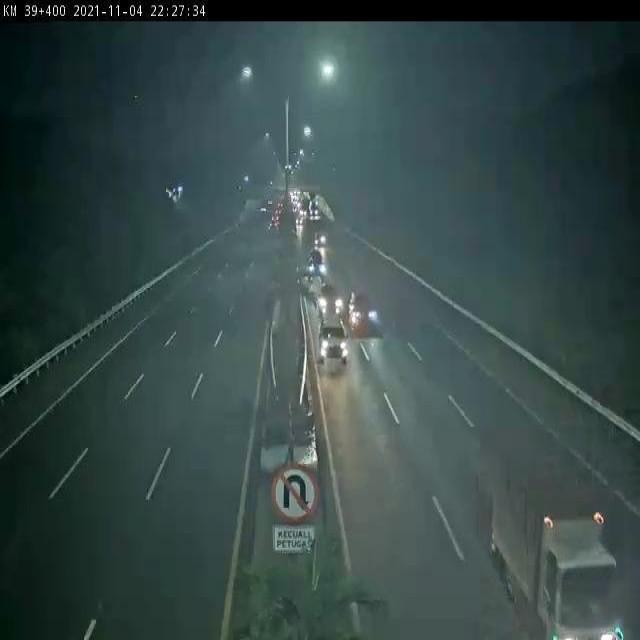car: (348, 290, 378, 334), (321, 316, 348, 361), (318, 284, 342, 313)
truck: (486, 434, 624, 640)
